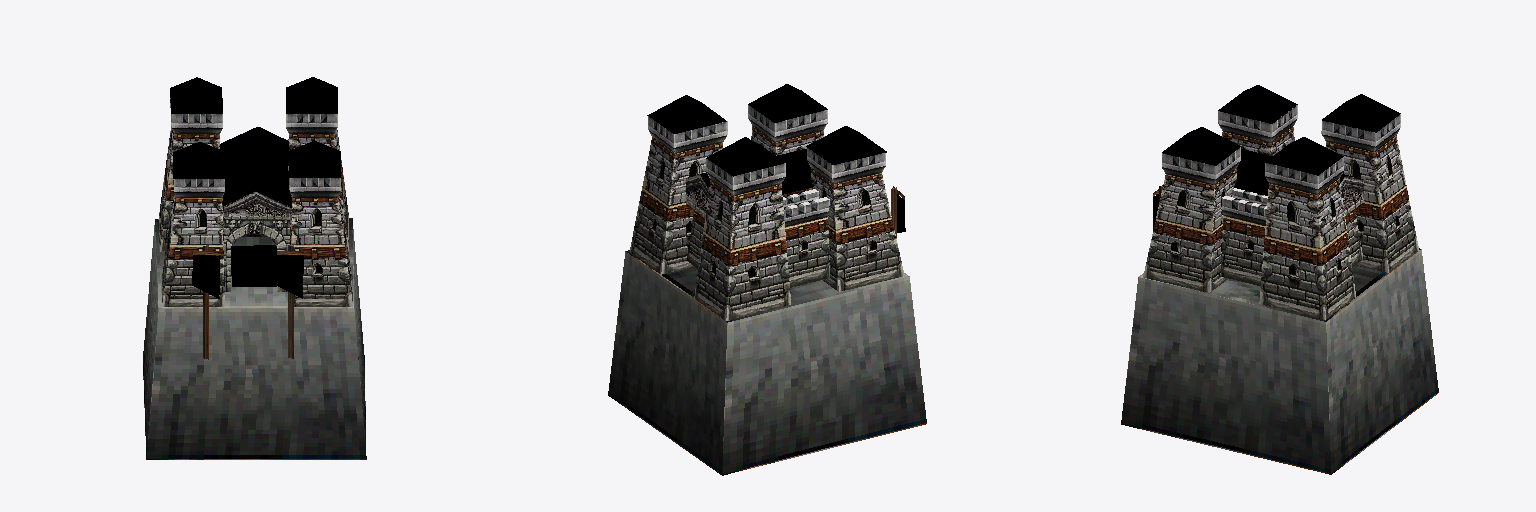
The picture shows the model from 3 angles: view 1: azimuth 30°, elevation 25°; view 2: azimuth 150°, elevation 25°; view 3: azimuth 270°, elevation 25°; orthographic projection.
Parts seen in each view (by area): view 1: Mesh02, Mesh01; view 2: Mesh02, Mesh01; view 3: Mesh02, Mesh01.
Boxes of the visible parts, <box> form: Mesh02: <box>143,98,366,459</box>; Mesh01: <box>170,77,341,298</box>; Mesh02: <box>608,105,926,475</box>; Mesh01: <box>647,84,905,232</box>; Mesh02: <box>1121,105,1438,474</box>; Mesh01: <box>1153,85,1400,229</box>.
Size of the model in its own units: 339 by 370 by 348.
Materials: 2 (1 with a texture image).